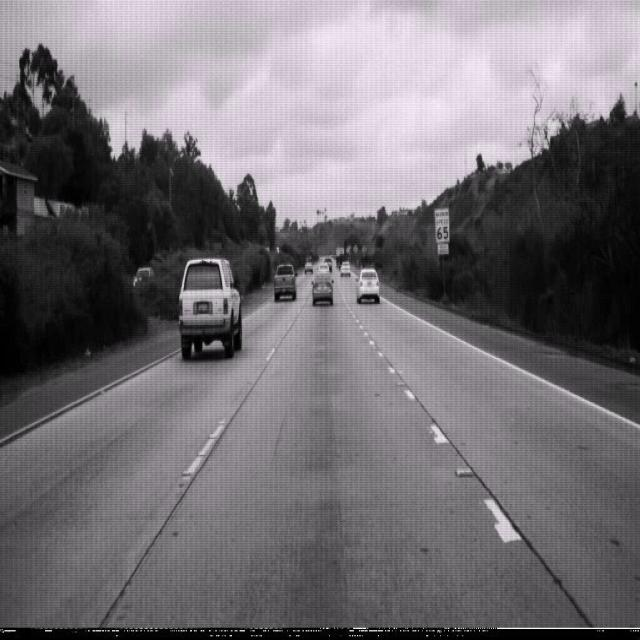speedLimit65: (434, 205, 451, 244)
